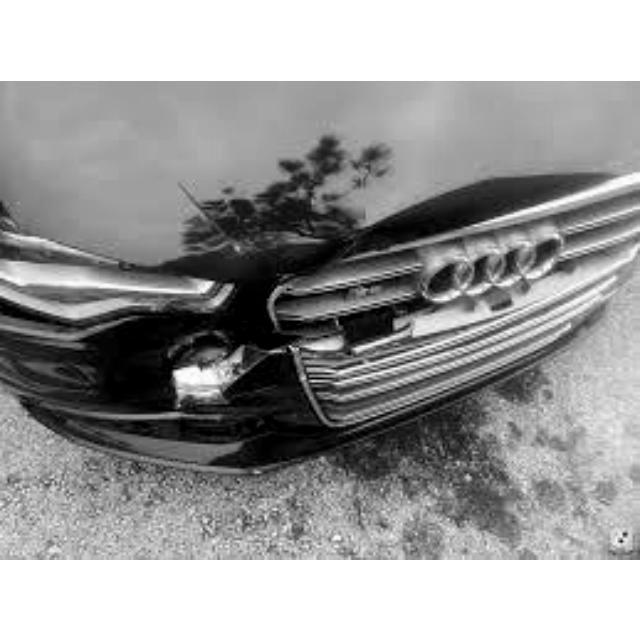bonnet-dent: (43, 120, 502, 310)
front-bumper-dent: (83, 318, 344, 483)
